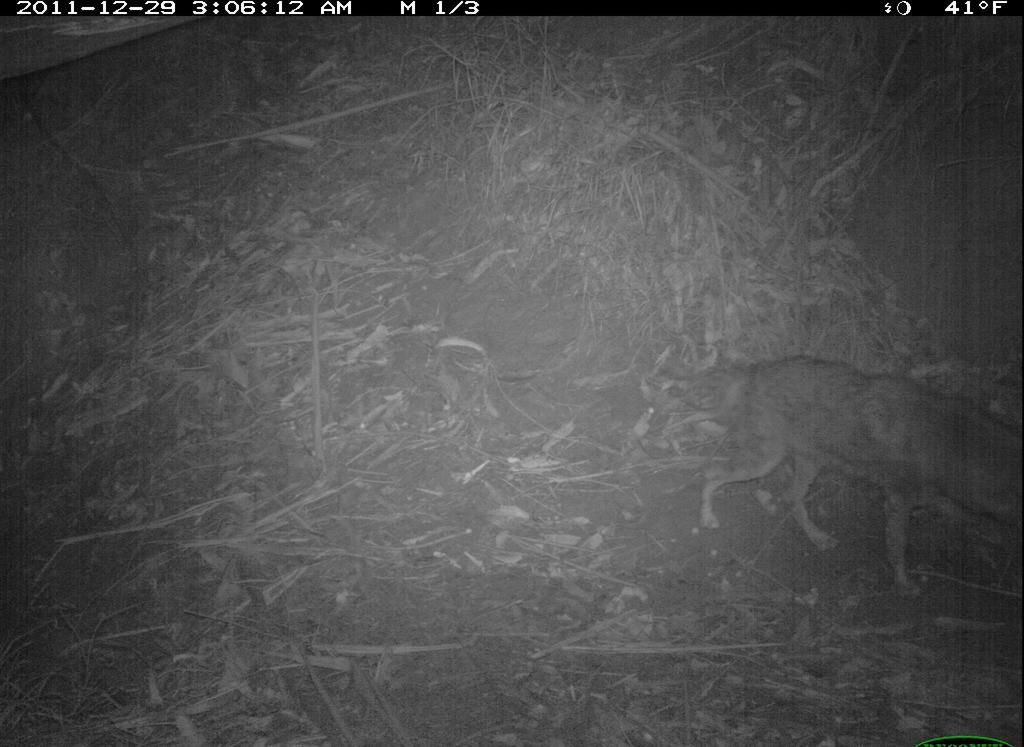coyote: (648, 345, 1017, 603)
